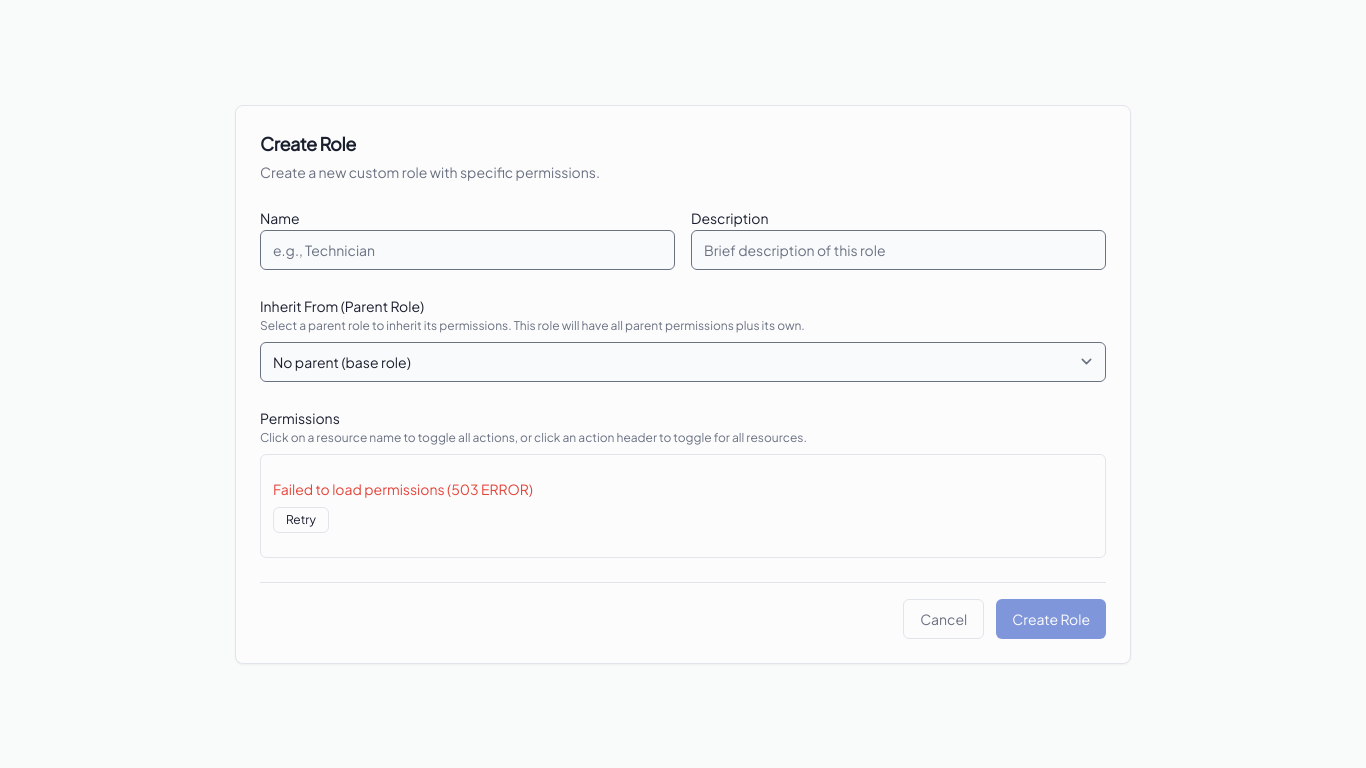
Test: RoleManager — catalog fetch failure handling (Todd review on #802) › Retry re-fetches the catalog and renders the matrix on the second attempt
This screenshot has width=1366, height=768.
Click the button "Retry". click: coordinates (301, 520)
box: [273,506,329,532]
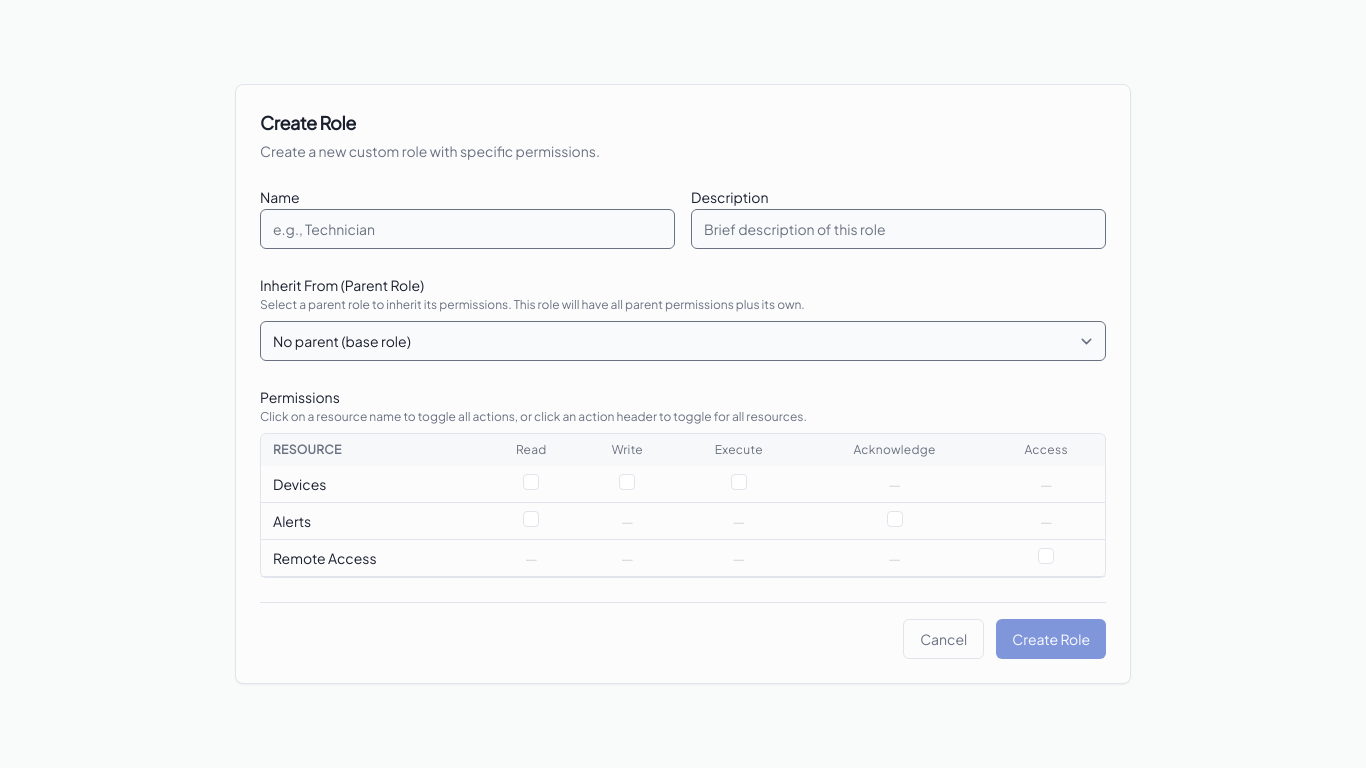
Result: the button "Read" is shown at [516,442,547,458]
